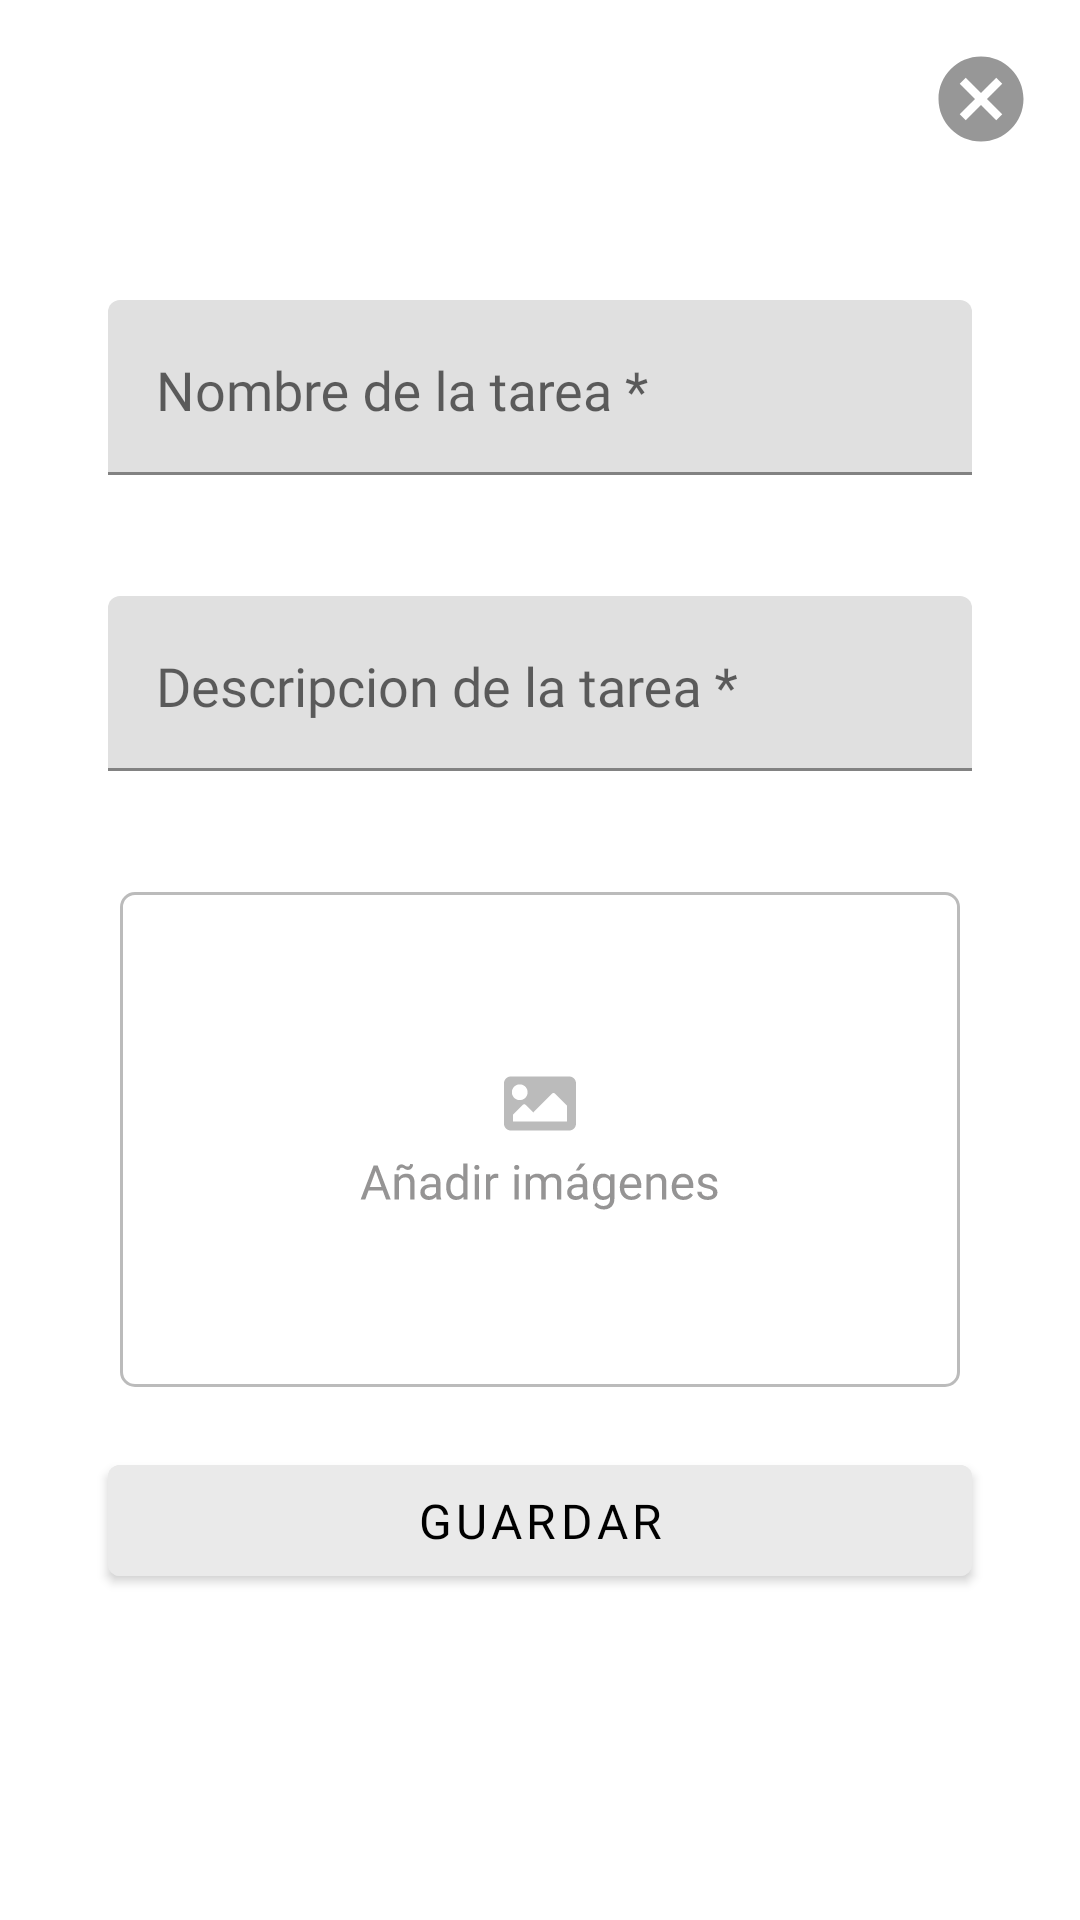

Icons on this 1080x1920 Android screen, each with the point to tap as (x,y):
cancel: (981,99)
